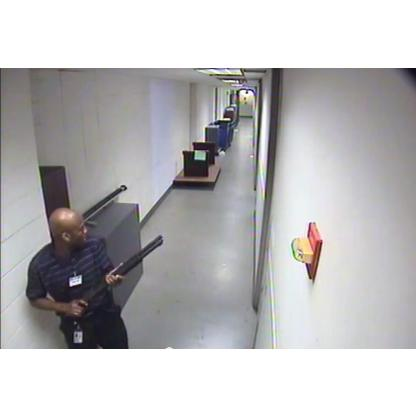gun: (62, 233, 164, 320)
